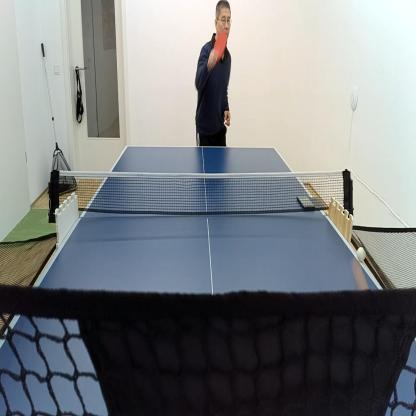Ball: (352, 256, 370, 293), (356, 244, 366, 263)
